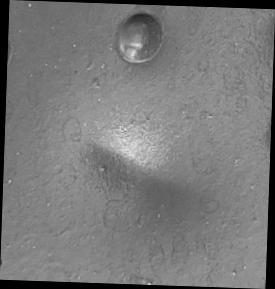dent: (0, 1, 274, 289)
